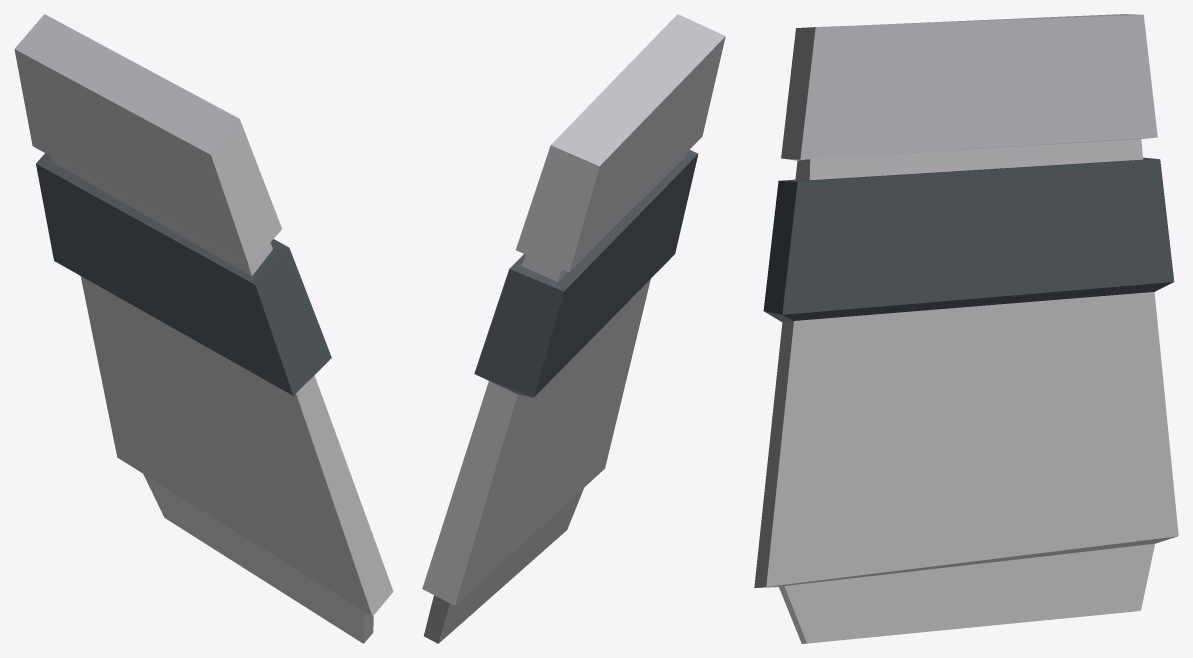
The model's file is Dropship_01_Flap_Right.fbx.
3 renders of one model, left to right at view 1: azimuth 30°, elevation 25°; view 2: azimuth 150°, elevation 25°; view 3: azimuth 270°, elevation 25°, orthographic.
Visible parts, largest first — view 1: Dropship_01_Flap_Right; view 2: Dropship_01_Flap_Right; view 3: Dropship_01_Flap_Right.
Boxes of the visible parts, x1,y1,x2,y2 form: Dropship_01_Flap_Right: [14, 14, 393, 643]; Dropship_01_Flap_Right: [422, 14, 725, 643]; Dropship_01_Flap_Right: [754, 14, 1178, 643].
Bounding box in the file's own units: 119 × 306 × 211.
Materials: 1 (1 with a texture image).
